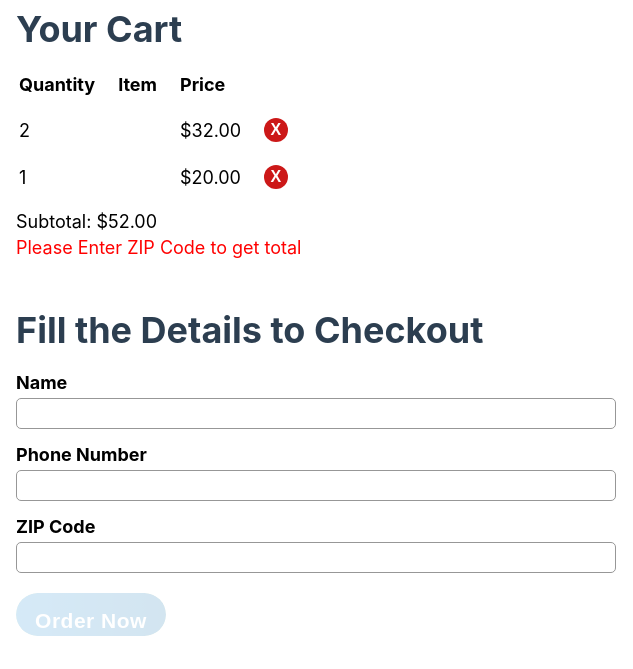
it: Cart Component › calculates tax and total when zip code is entered
The width and height of the screenshot is (633, 669).
Step 1. Type "12345" into the field labelled "ZIP Code" → (316, 558), box [16,542,616,573]
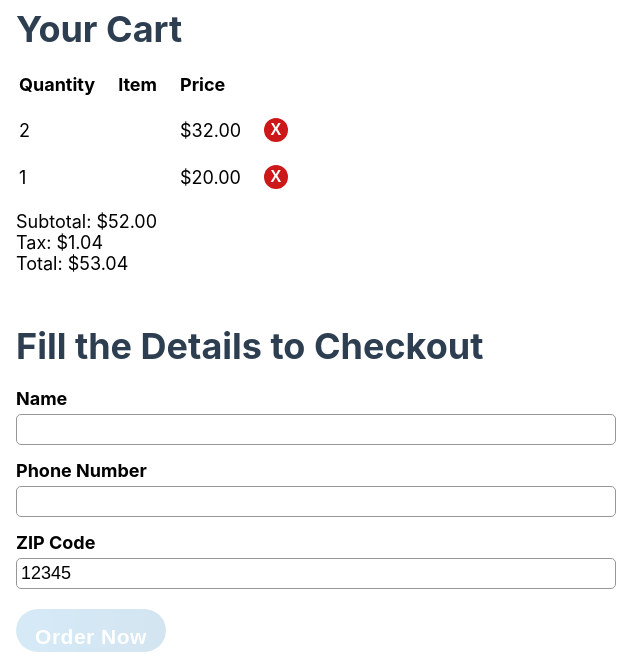
Check: the text "Tax: $1.04" is shown, box [16,232,103,253]
Check: the text "Total: $53.04" is shown, box [16,253,128,274]
